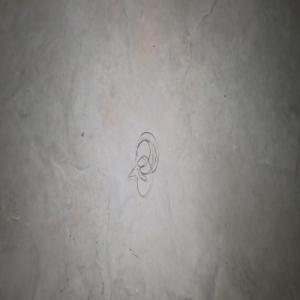Wire: (127, 131, 158, 196)
